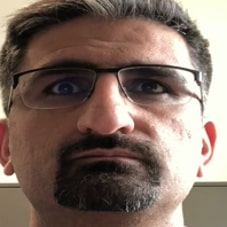awake: (31, 47, 191, 186)
